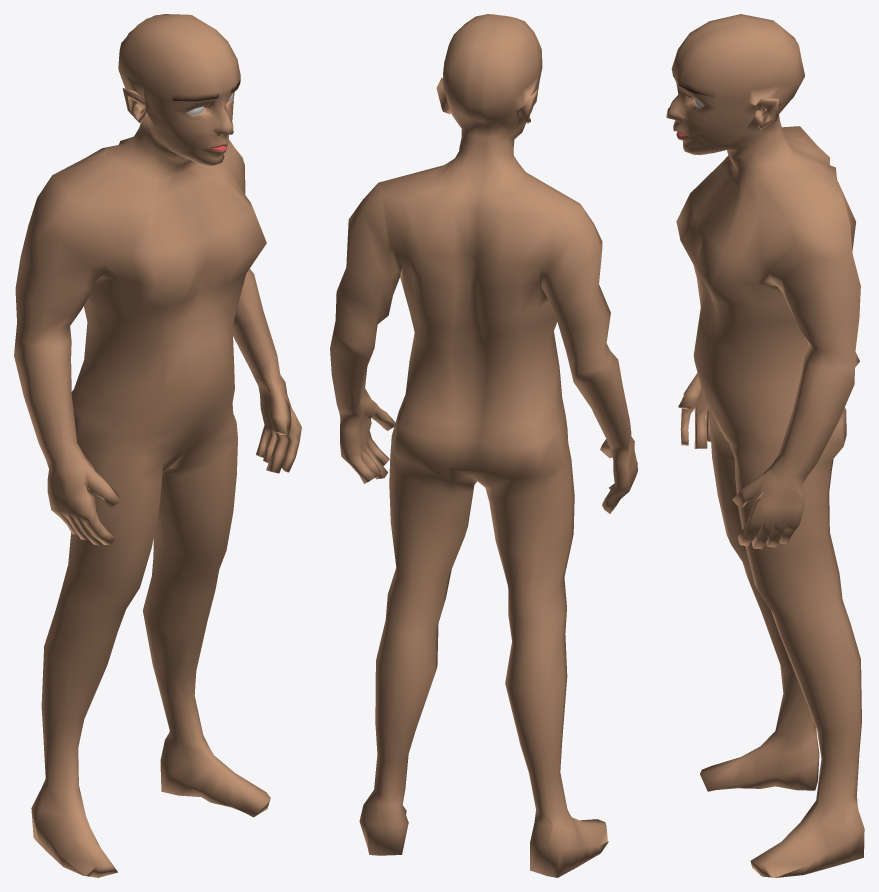
File: boneco8.glb
The picture shows the model from 3 angles, left to right: view 1: azimuth 30°, elevation 25°; view 2: azimuth 150°, elevation 25°; view 3: azimuth 270°, elevation 25°; orthographic projection. The views are drawn at different scales.
Parts seen in each view (by area): view 1: Plane.009; view 2: Plane.009; view 3: Plane.009.
Boxes of the visible parts, <box> form: Plane.009: <box>14,14,301,877</box>; Plane.009: <box>330,14,637,877</box>; Plane.009: <box>666,14,864,877</box>.
Size of the model in its own units: 1.2 by 3.47 by 0.7717.
